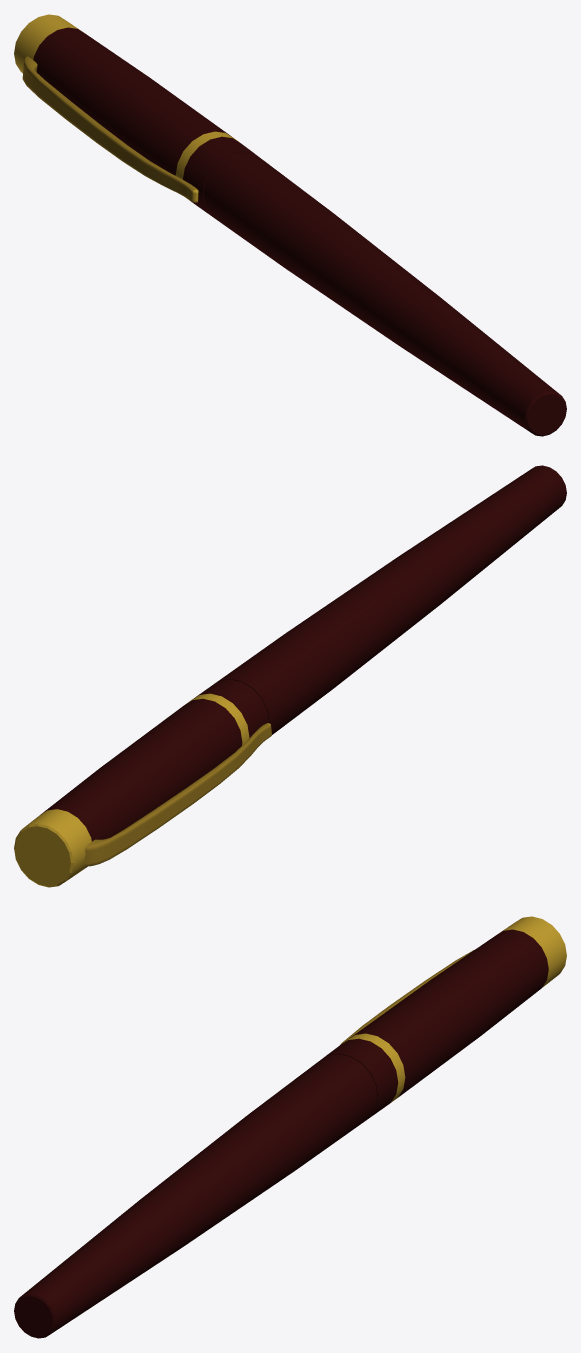
Rendered from Pen 3.FBX.
3 renders of one model, top to bottom at view 1: azimuth 30°, elevation 25°; view 2: azimuth 150°, elevation 25°; view 3: azimuth 330°, elevation 25°, orthographic.
Visible parts, largest first — view 1: pen 3; view 2: pen 3; view 3: pen 3.
Boxes of the visible parts, x1=… form: pen 3: x1=14, y1=14, x2=566, y2=436; pen 3: x1=14, y1=465, x2=566, y2=887; pen 3: x1=14, y1=916, x2=566, y2=1338.
Size of the model in its own units: 1.42 by 1.13 by 15.01.
1 material, 1 textured.
